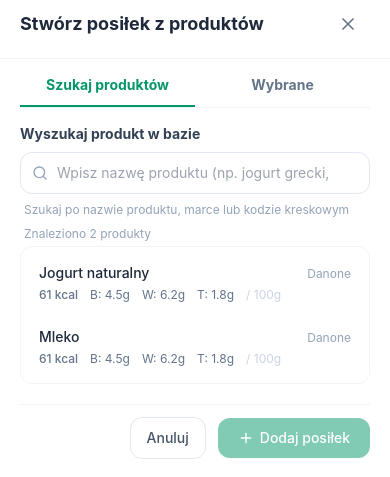
CustomMealModal › has confirm button disabled when title is empty and multiple products
Click the text "Jogurt naturalny": point(94, 273) left=39, top=263, right=149, bottom=283
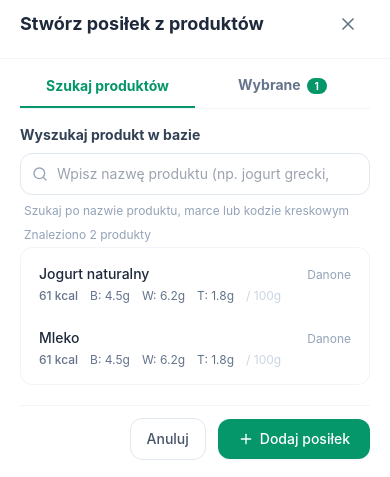
Click the text "Mleko": point(59, 338) left=39, top=328, right=80, bottom=348
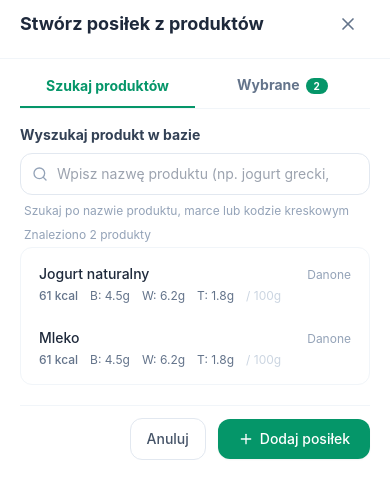
Clear the field with placeholder "np. Śniadanie proteinowe, Sałatka z kurczakiem...": point(195, 255) left=20, top=125, right=370, bottom=385
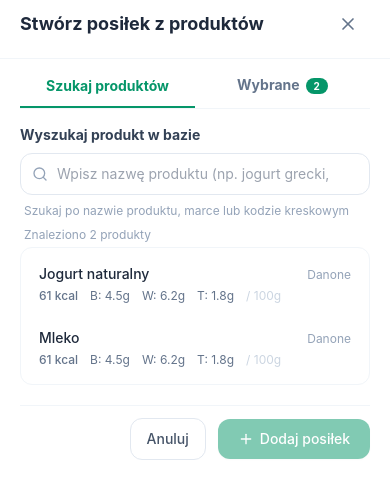
Check: the button "Dodaj posiłek" is disabled, box left=218, top=419, right=370, bottom=459
